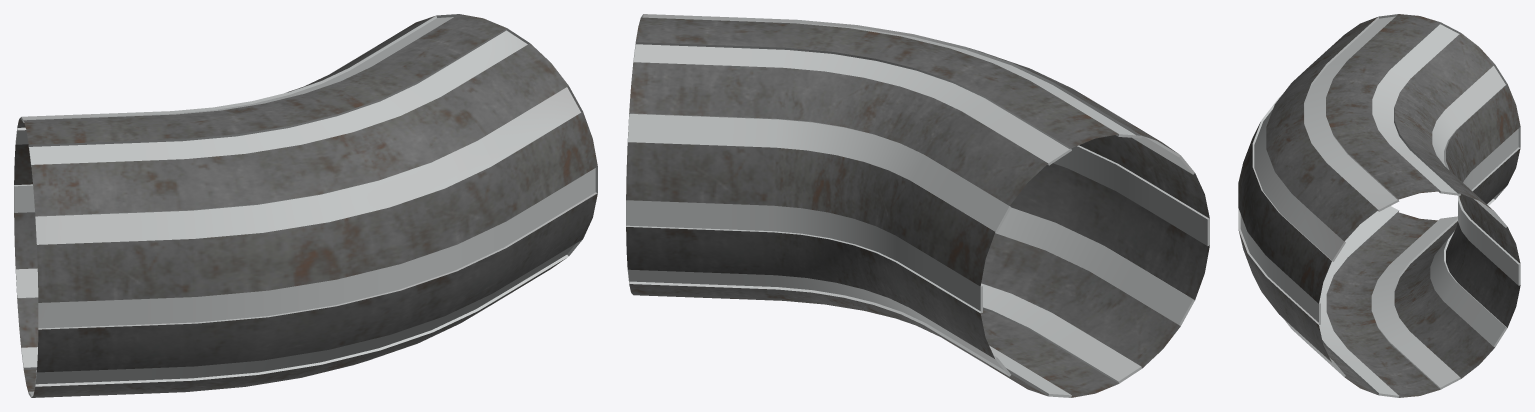
The model's file is Cilindro_Circ_Curvado.fbx.
3 views of the same model, side by side, from view 1: azimuth 30°, elevation 25°; view 2: azimuth 150°, elevation 25°; view 3: azimuth 270°, elevation 25° (orthographic). The views are drawn at different scales.
Parts seen in each view (by area): view 1: pCylinder5; view 2: pCylinder5; view 3: pCylinder5.
Boxes of the visible parts, x1,y1,x2,y2 form: pCylinder5: (14,14,597,397); pCylinder5: (626,14,1209,397); pCylinder5: (1238,14,1520,397).
Size of the model in its own units: 230 by 100 by 126.
1 material, 1 textured.
